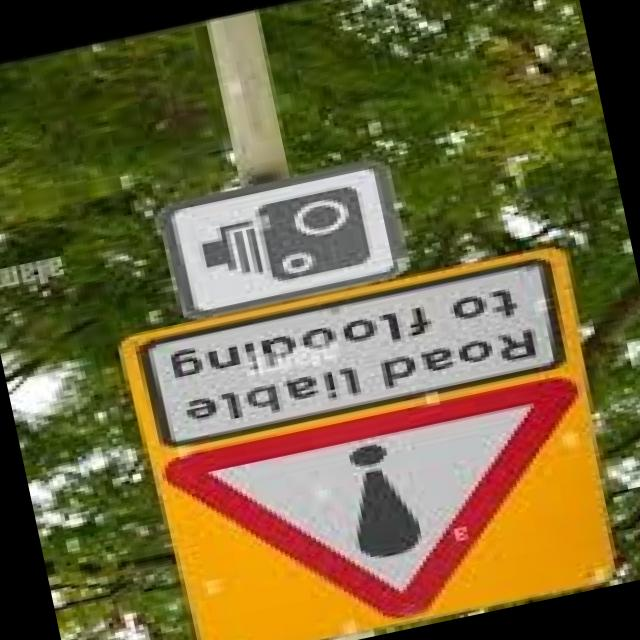warning: (158, 367, 613, 640)
